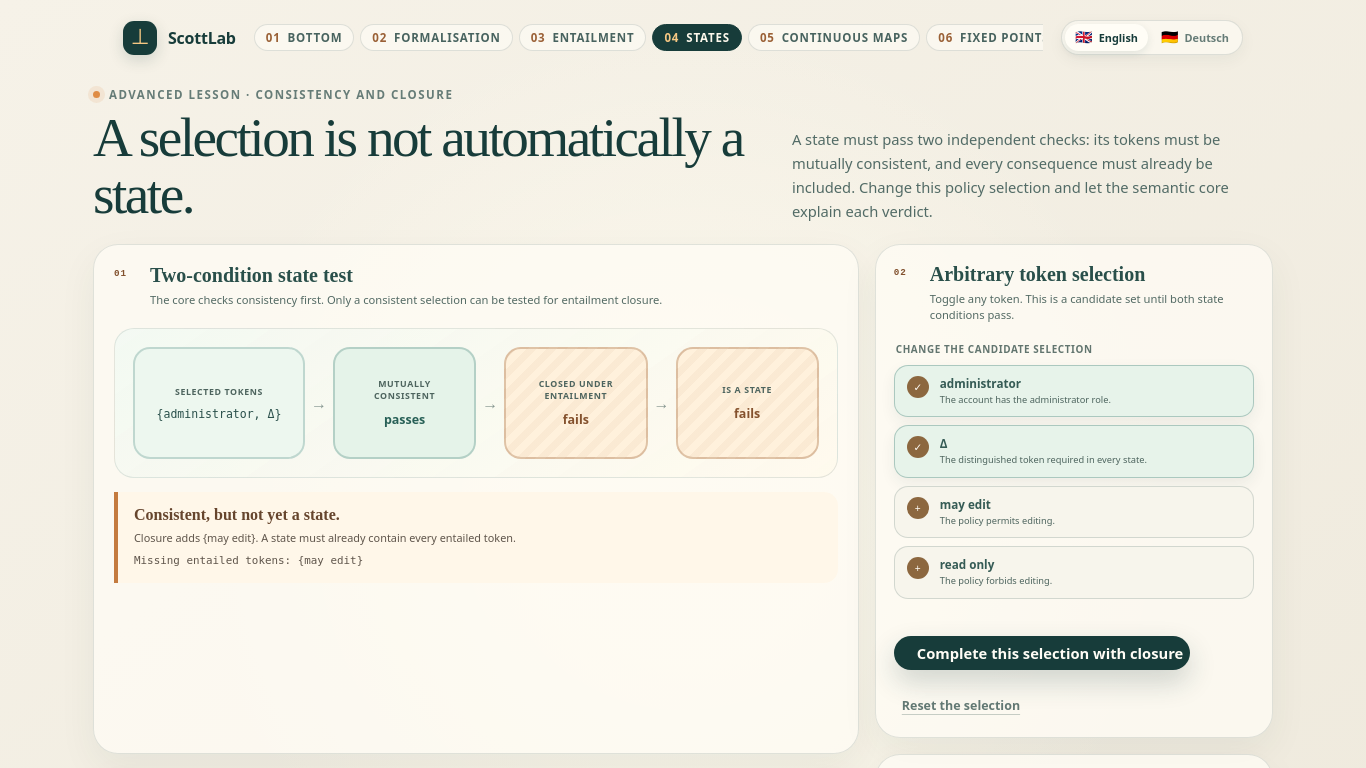
it: ScottLab introduction and bottom-first lesson › translates a states witness without resetting the selection
This screenshot has width=1366, height=768.
Step 1. Click the button with aria-label "Add read only token" → (967, 565), box [894, 546, 1254, 599]
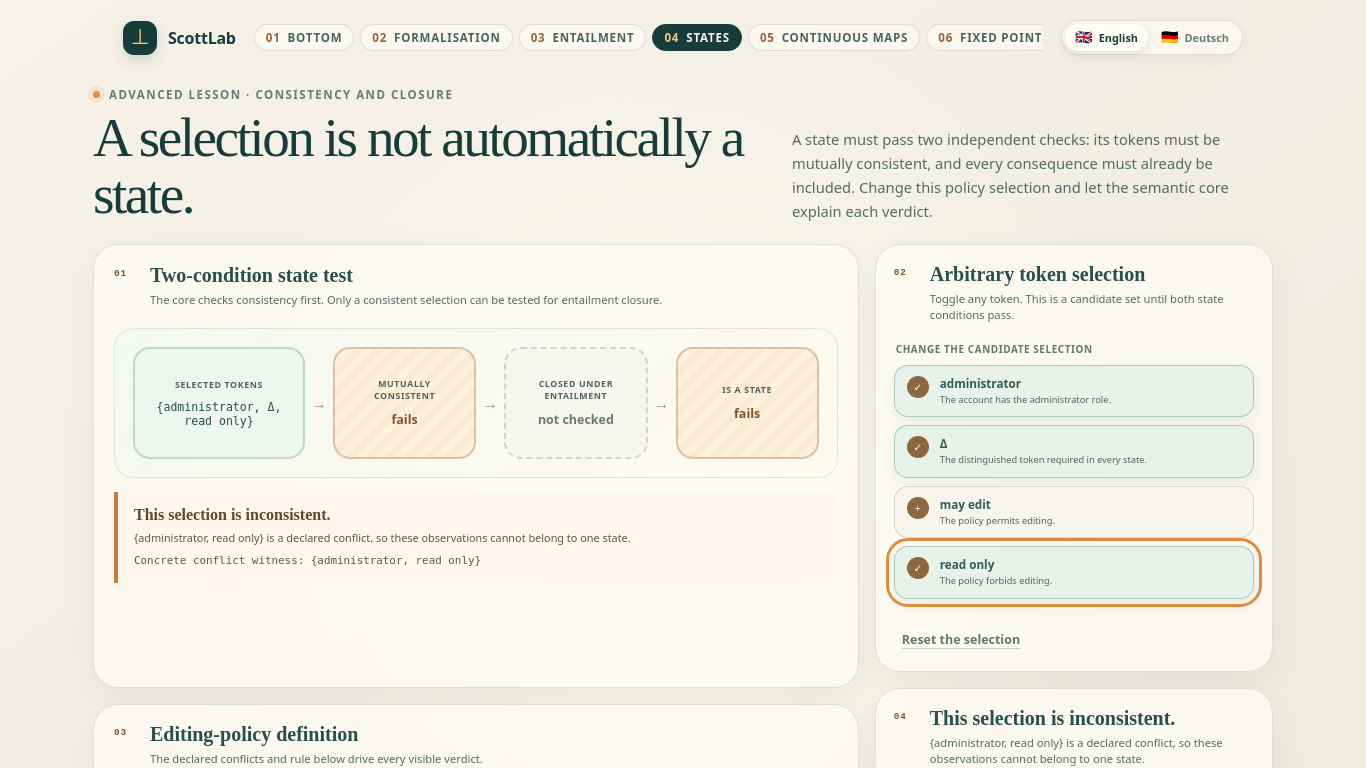
Step 2. Click the button with aria-label "Choose Deutsch" → (1195, 38), box [1151, 24, 1239, 51]
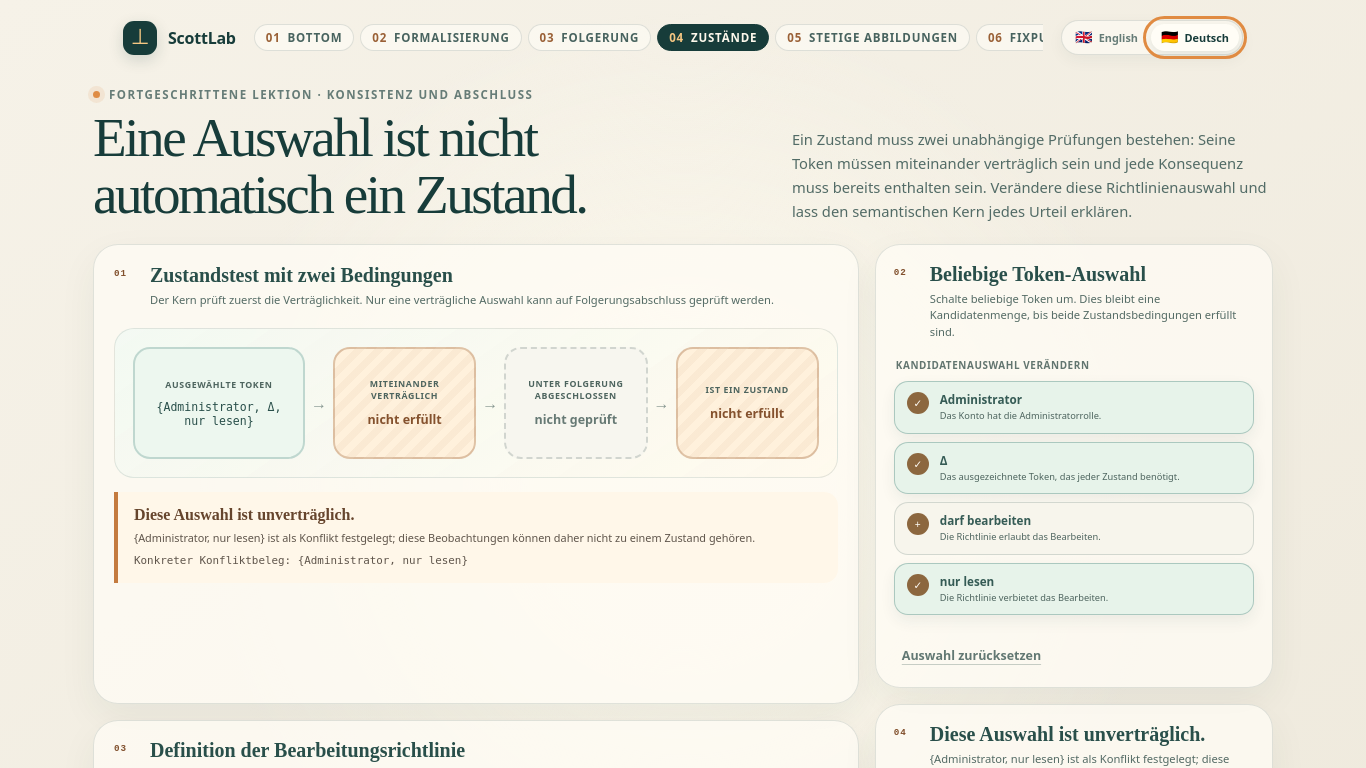
Now the text "Konkreter Konfliktbeleg: {Administrator, nur lesen}" is shown, box [114, 492, 838, 583]
